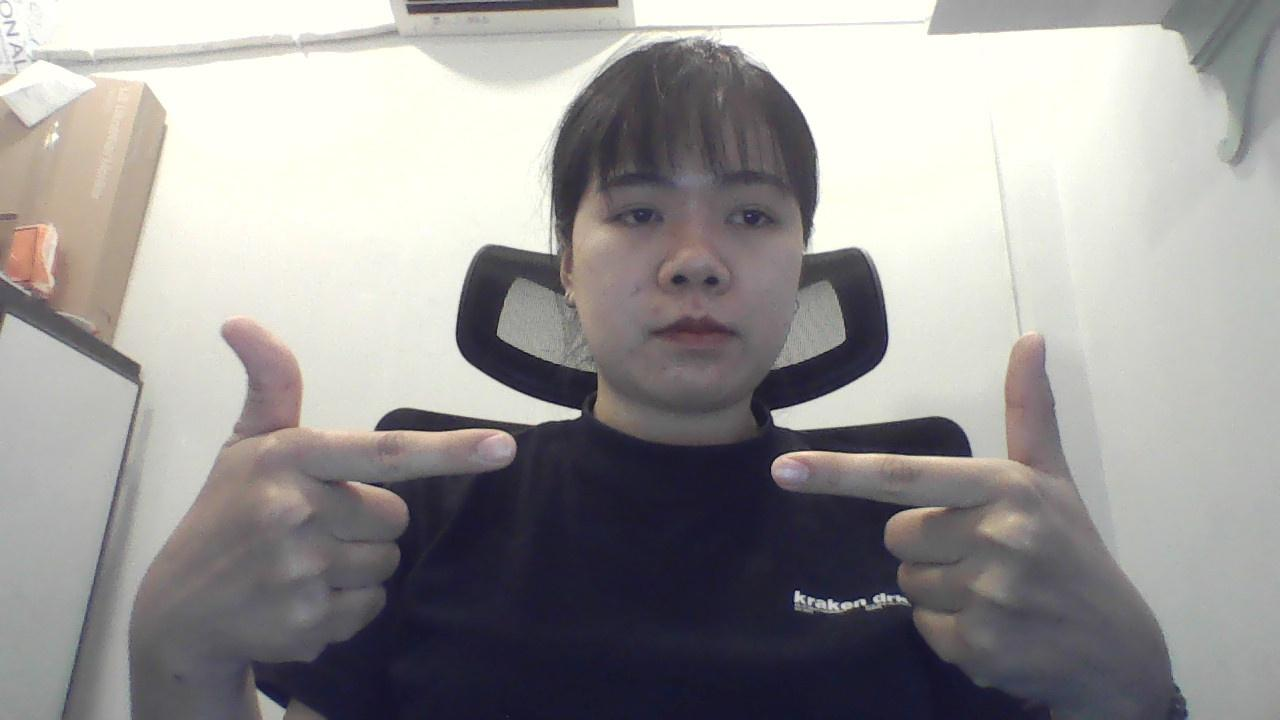G: (130, 306, 528, 708), (765, 331, 1143, 701)
